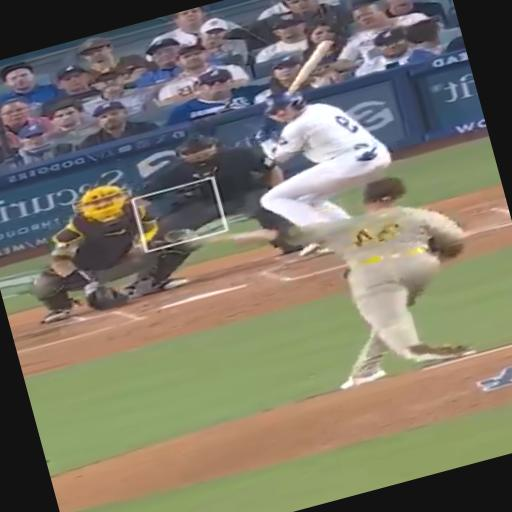bat: (287, 40, 332, 94)
